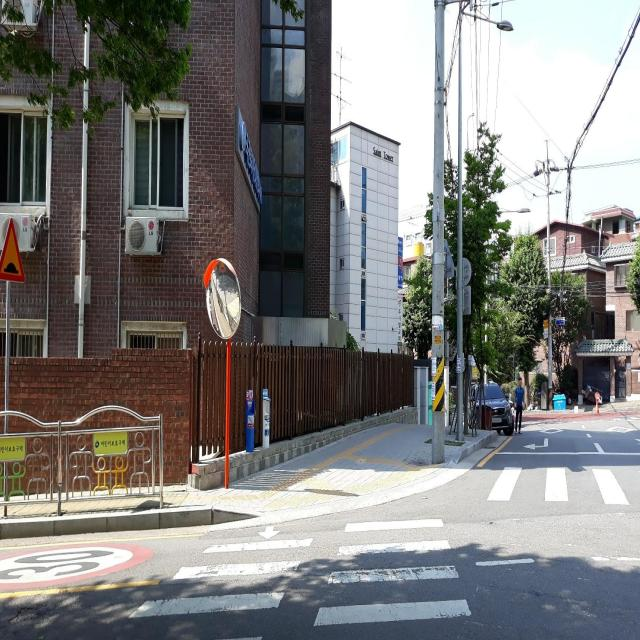횡단보도: (127, 516, 473, 639), (486, 466, 640, 501)
